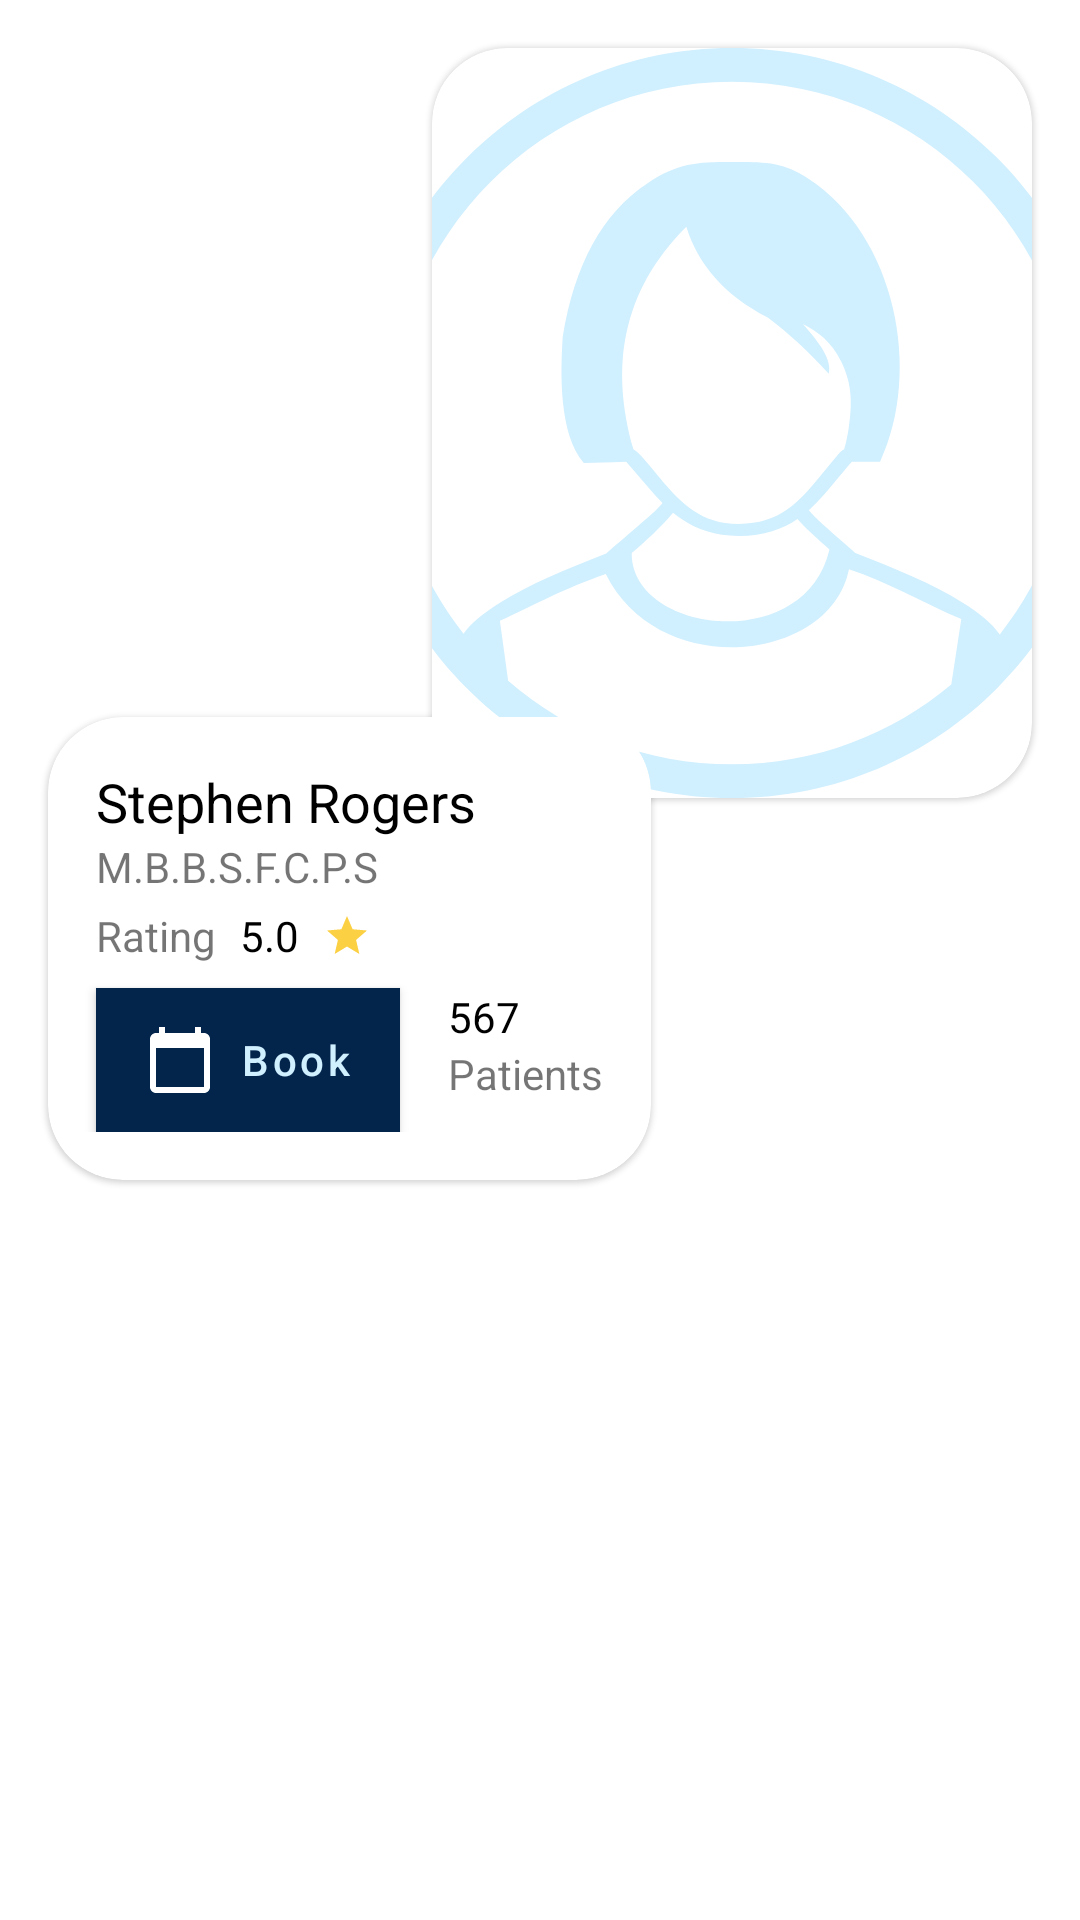

Locate icon controls on the screen. Image size 1080px x 1920px, boxes as (x1, y1, x2, y2).
star: (327, 916, 367, 954)
